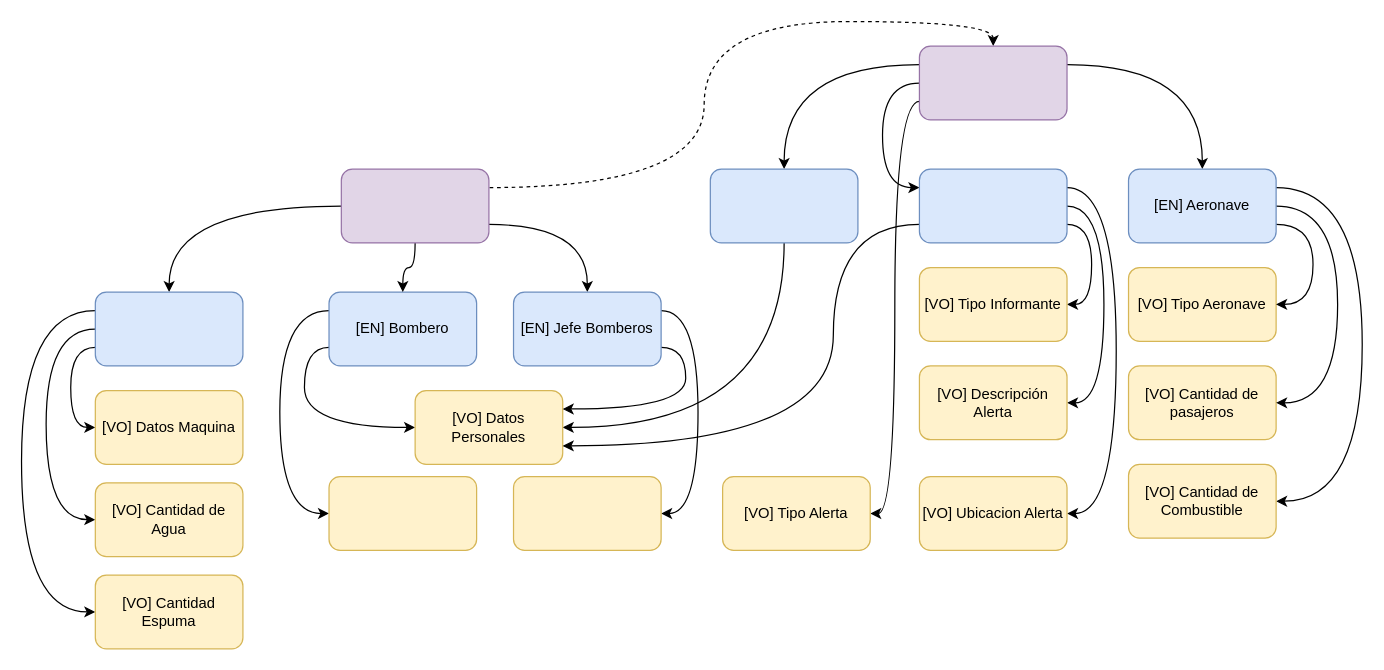
The diagram is 1384 pixels wide and 670 high, and some of its shapes have lost their labels. Here are the shapes that lost their labels. From the top down, the centre of each, then its label:
At pixel 992 82: "[AR] Llamada de emergencia".
At pixel 414 205: "[AR] Respuesta".
At pixel 783 205: "[EN] Bombero Guardia".
At pixel 992 205: "[EN] Informante".
At pixel 168 328: "[EN] Maquina".
At pixel 402 512: "[VO] Tipo traje".
At pixel 586 512: "[VO] Recursos Disponibles".
